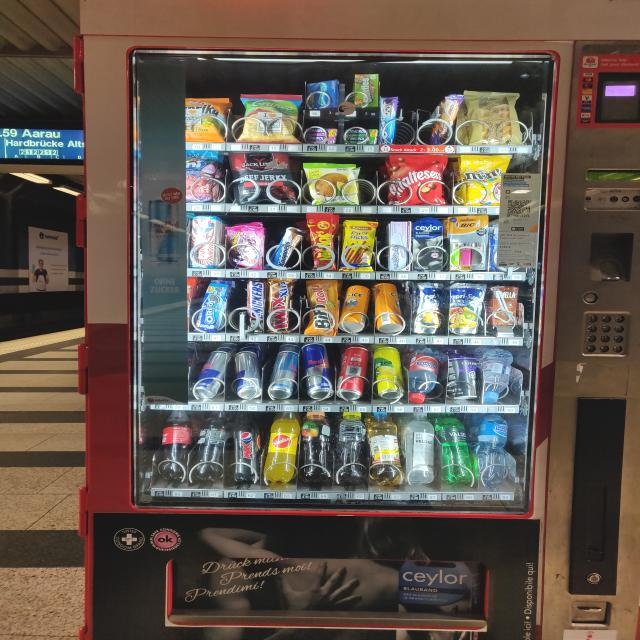airwaves_menthoneucalyptus_riegel_14_1_50173167: (304, 78, 340, 108)
c-swiss_dosenabisicetea__33__9120025930135: (341, 282, 372, 336), (375, 280, 405, 332)
caferoyal_classicmacchiato__33__7617014164487: (444, 347, 484, 402)
caprisun_multivitamin__20__4000177605004: (447, 285, 487, 336), (410, 282, 447, 334)
coke__dose_33__54491472: (335, 345, 374, 400)
coke__flasche_50__54491472: (151, 412, 197, 483)
coke_zero_flasche_50__5449000131836: (192, 410, 232, 482)
comella_schokodrink__33__7613100037253: (491, 284, 522, 330)
evian___50__3068320353500: (482, 347, 517, 402)
fini_galaxymix_packung_100_1_8410525150364: (176, 149, 220, 203)
fini_jellykisses_packung_80_1_8410525116704: (224, 222, 268, 270)
fuse_lemon__50__5449000235947: (334, 412, 372, 484)
fuse_lemon_dose_33__5449000235947: (373, 347, 406, 402)
fuse_peach__50__5449000236623: (300, 410, 333, 484)
henniez_blau__33__7610235000442: (468, 413, 513, 490)
henniez_rot__33__7610235000442: (408, 345, 443, 404)
jacklinks_beefjerkyorginal__25__4047751730219: (230, 150, 302, 204)
jlbrichard_gauffre__90__5410495002000: (466, 90, 522, 146)
kagi_specialedition__50__7610046000259: (190, 216, 221, 272)
knoppers_riegel____4035800488808: (267, 230, 300, 268)
lorenz_nicnacs__40__4018077798818: (310, 213, 344, 270)
malburner_partysticks__40__7610200279682: (341, 218, 382, 270)
maltesers___100__5000159023061: (390, 152, 454, 206)
mnms_gelb__45__40111445: (457, 154, 514, 208)
oreo___66__84100733: (194, 283, 230, 334)
pepsi_max__50__4060800105943: (226, 411, 266, 484)
ramseier_schorle__50__7610057012456: (366, 412, 406, 485)
redbull___33__90162909: (192, 349, 232, 398), (301, 343, 334, 397), (232, 350, 260, 399)
redbull_light__33__90162800: (269, 350, 301, 399)
sinalco_orange__50__4018715000112: (263, 410, 301, 484)
skittles_sour_riegel_51_1_0000000000004: (352, 70, 380, 107)
snickers___50__5000159461122: (242, 278, 270, 332)
stimorol_spearmint_riegel_14_1_0000000000005: (342, 127, 378, 143)
stimorol_wildcherry_riegel_14_1_57060330: (304, 126, 338, 144)
twix___50__5000159459228: (263, 278, 296, 335)
valser_classic__50__76404160: (430, 414, 477, 484)
vitaminwell_reload__50__7350042716388: (405, 412, 437, 483)
zweifel_graneochilli__100__7610095184009: (233, 92, 303, 143)
zweifel_paprika__90__7610095013002: (178, 94, 231, 142)
